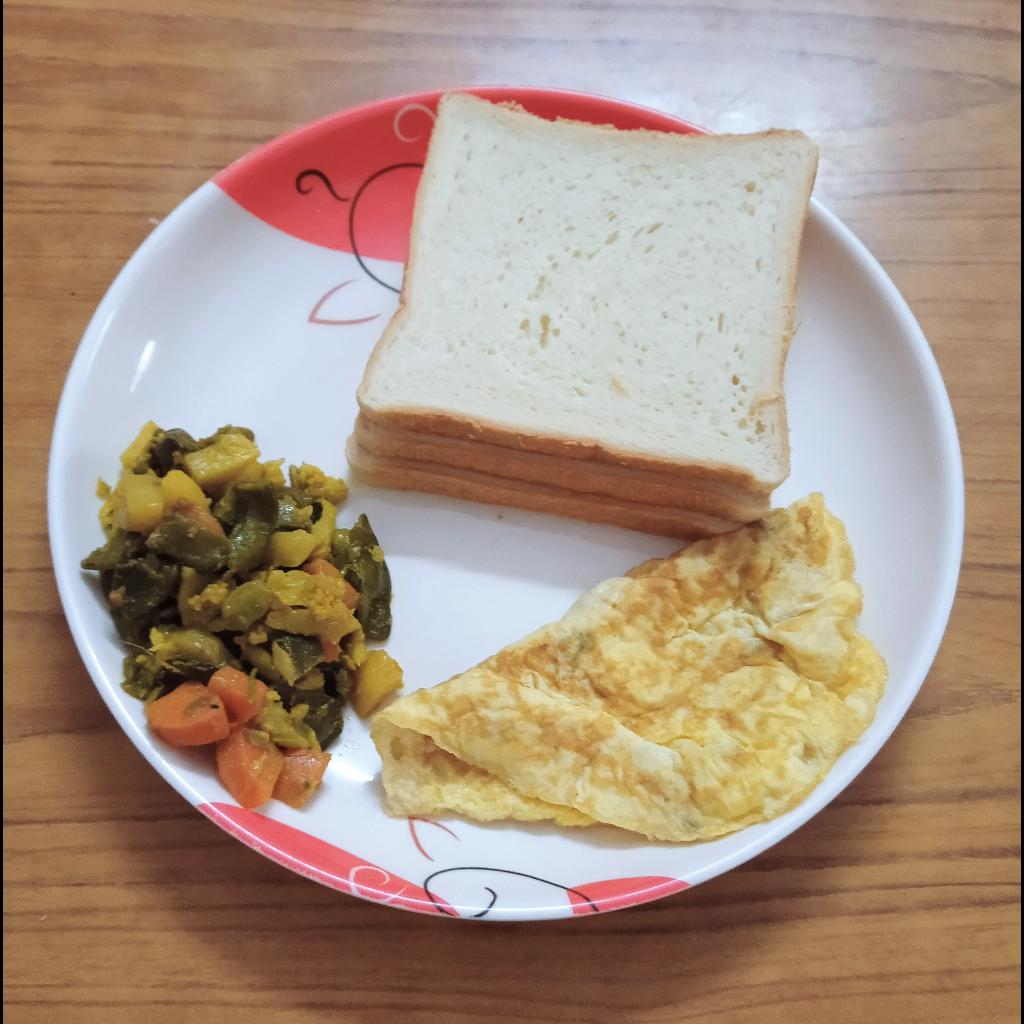bread: (347, 102, 822, 531)
egg-poached: (375, 505, 884, 838)
vegetable: (87, 416, 380, 802)
